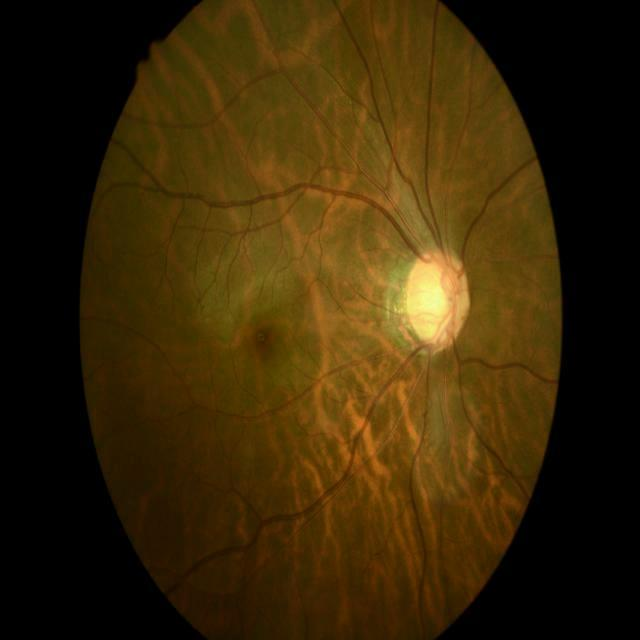cup: (416, 263, 458, 342)
disk: (406, 246, 472, 351)
